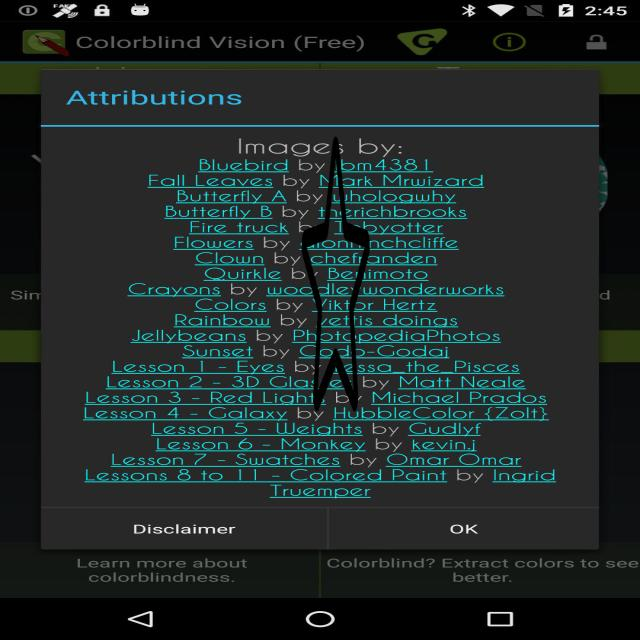forced continuity: (302, 130, 369, 418)
